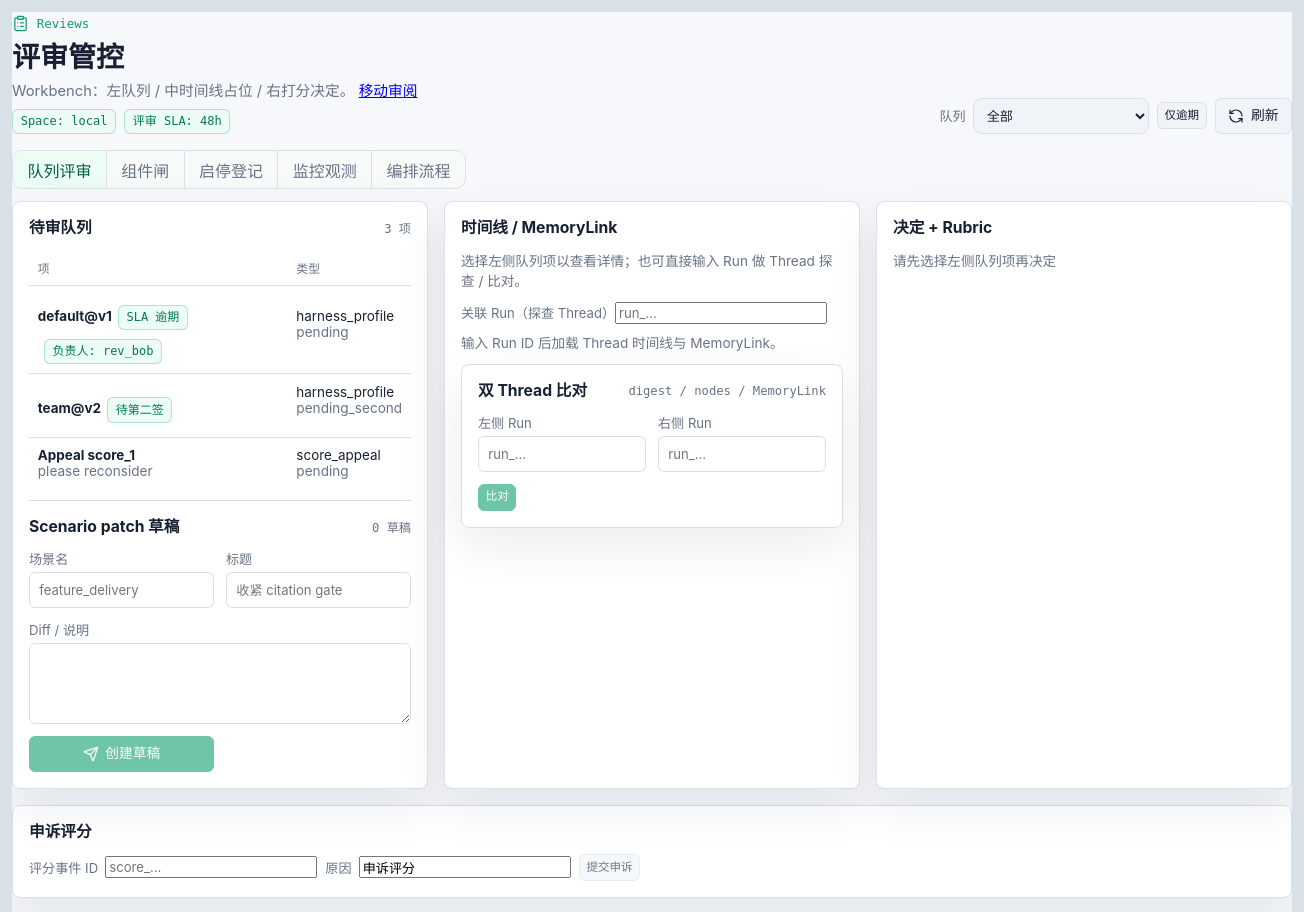
Test case: ReviewsPage › disables approve/reject when rubric is empty or out of 1–5
Click the text "default@v1" at (75,316), box [38, 308, 112, 324]
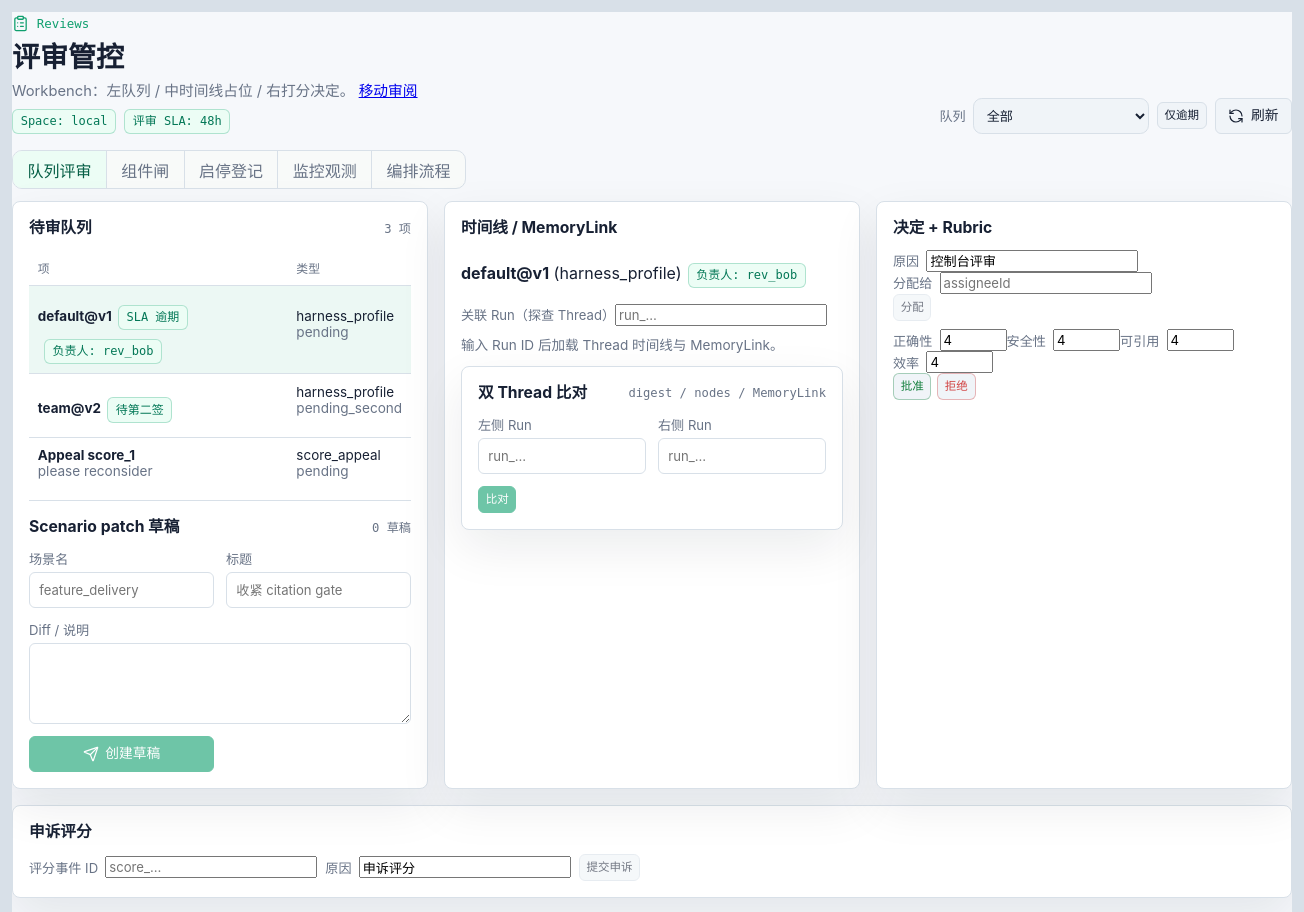
Result: the button with test id "review-approve" is enabled at [893, 373, 932, 400]
Clear the number field with test id "rubric-correctness" at (973,340), box [940, 329, 1006, 351]
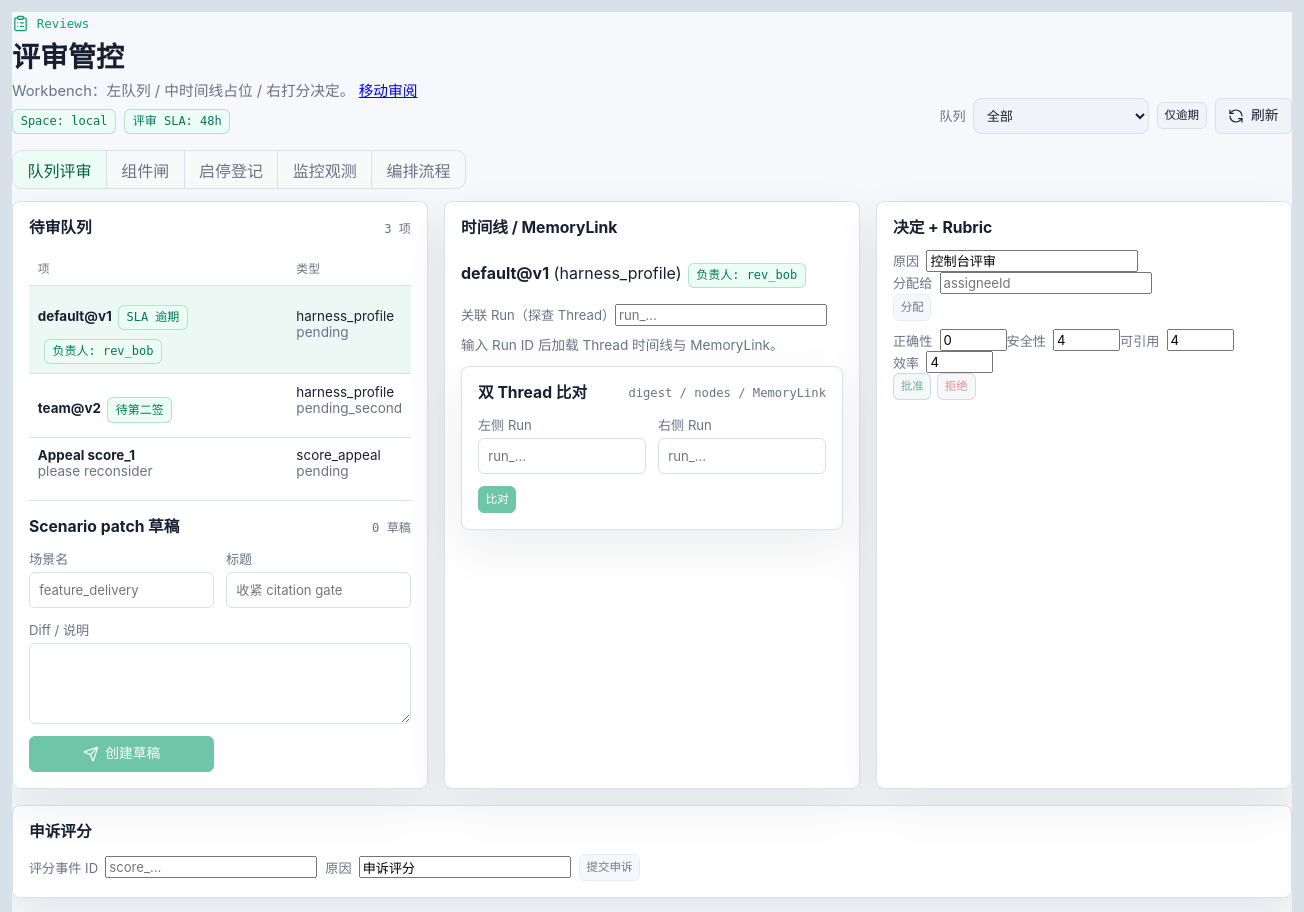
Result: the button with test id "review-approve" is disabled at [893, 373, 932, 400]
Result: the button with test id "review-reject" is disabled at [937, 373, 976, 400]
Replace the text in the number field with test id "rubric-correctness" with "9" at (973,340), box [940, 329, 1006, 351]
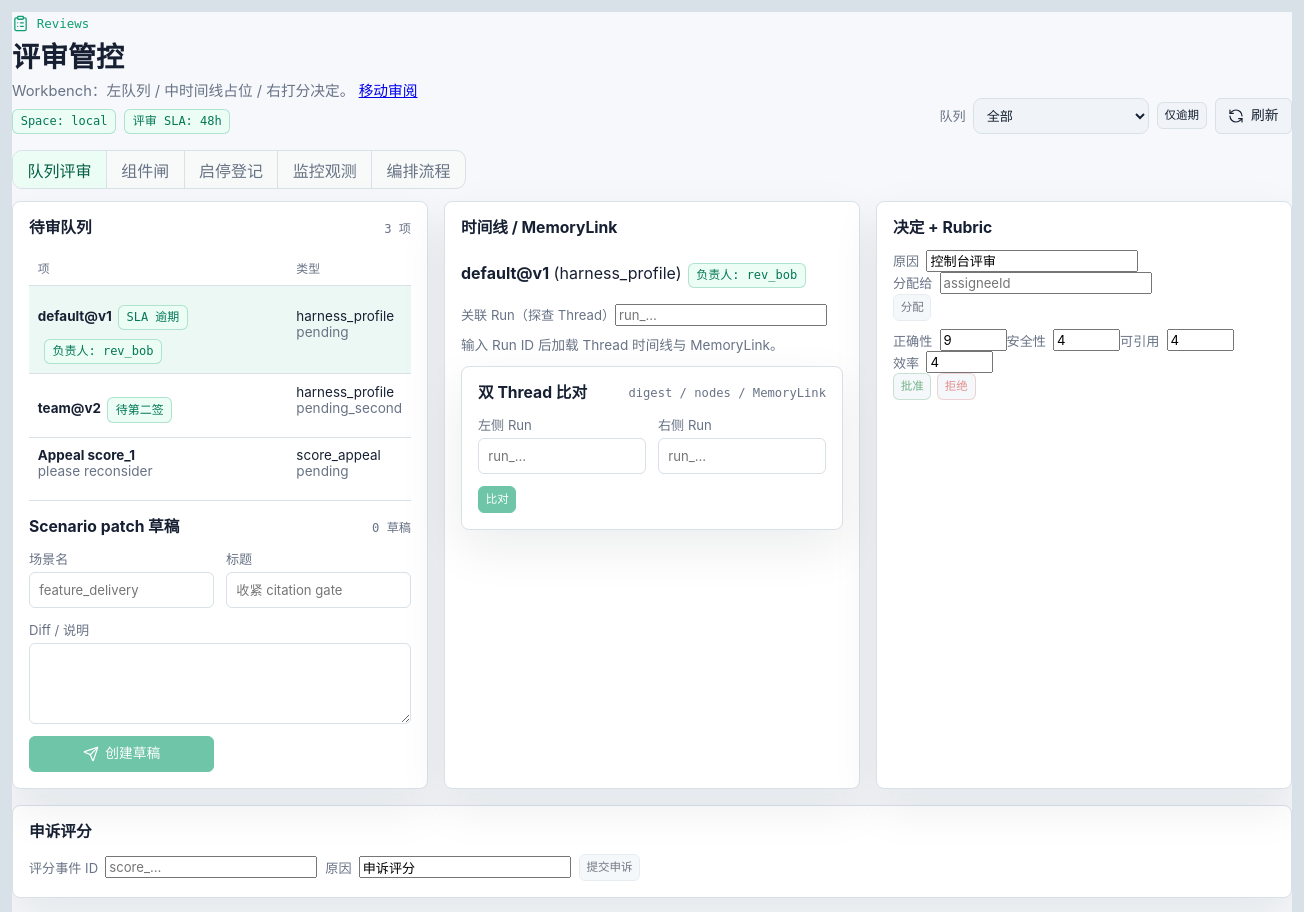
Result: the button with test id "review-approve" is disabled at [893, 373, 932, 400]
Replace the text in the number field with test id "rubric-correctness" with "4" at (973,340), box [940, 329, 1006, 351]
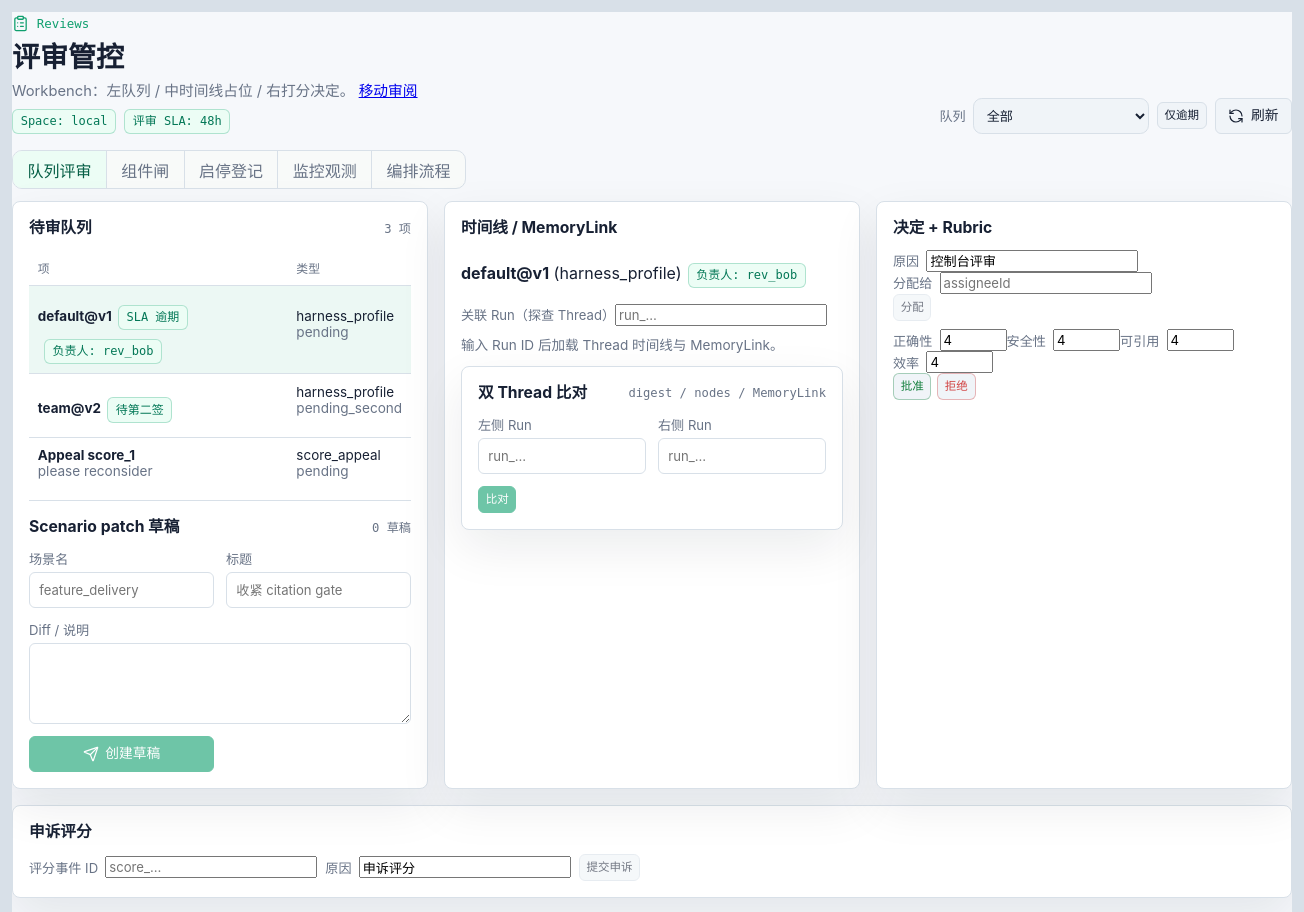
Result: the button with test id "review-approve" is enabled at [893, 373, 932, 400]
Result: the button with test id "review-reject" is enabled at [937, 373, 976, 400]
